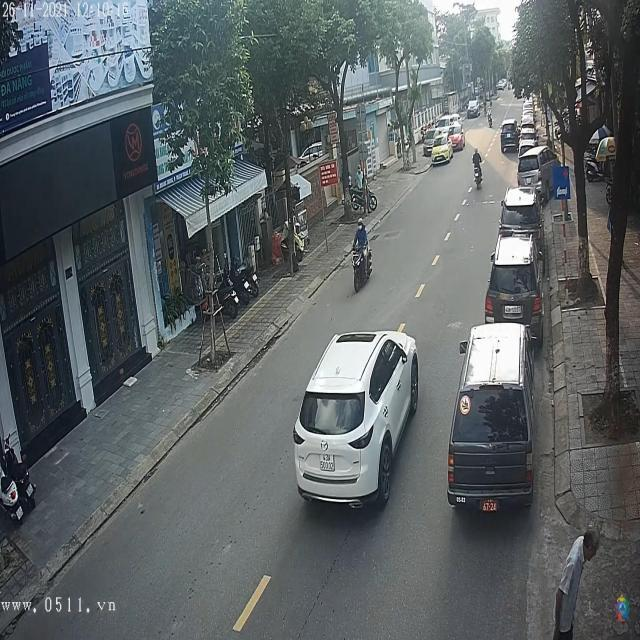car: (293, 331, 421, 506), (449, 323, 535, 510), (484, 233, 542, 328), (516, 144, 564, 202), (502, 186, 542, 233), (501, 125, 519, 152), (517, 126, 537, 148), (468, 98, 481, 117)
motorcycle: (350, 242, 374, 294), (473, 152, 484, 186)
